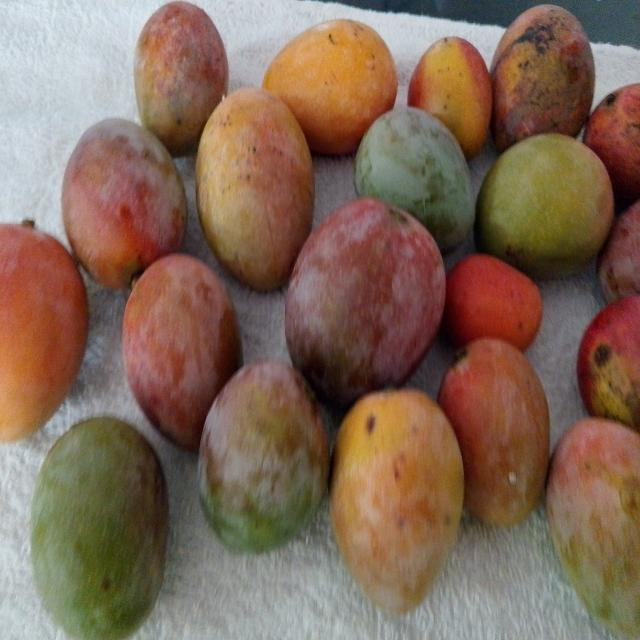mango: (285, 199, 445, 407), (31, 417, 168, 639), (330, 389, 463, 613), (199, 360, 329, 552), (120, 248, 242, 452), (196, 88, 314, 290), (61, 112, 190, 278), (442, 336, 552, 529), (0, 210, 92, 440), (546, 418, 639, 638), (475, 134, 613, 278), (263, 19, 397, 154), (355, 107, 474, 252), (490, 4, 594, 151), (134, 2, 228, 156), (408, 36, 492, 160), (577, 295, 639, 430), (584, 83, 639, 209)
